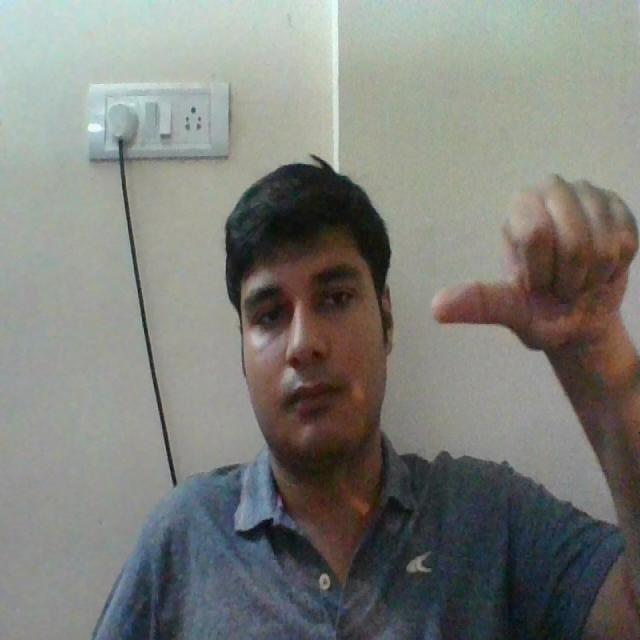Yes: (420, 138, 636, 392)
